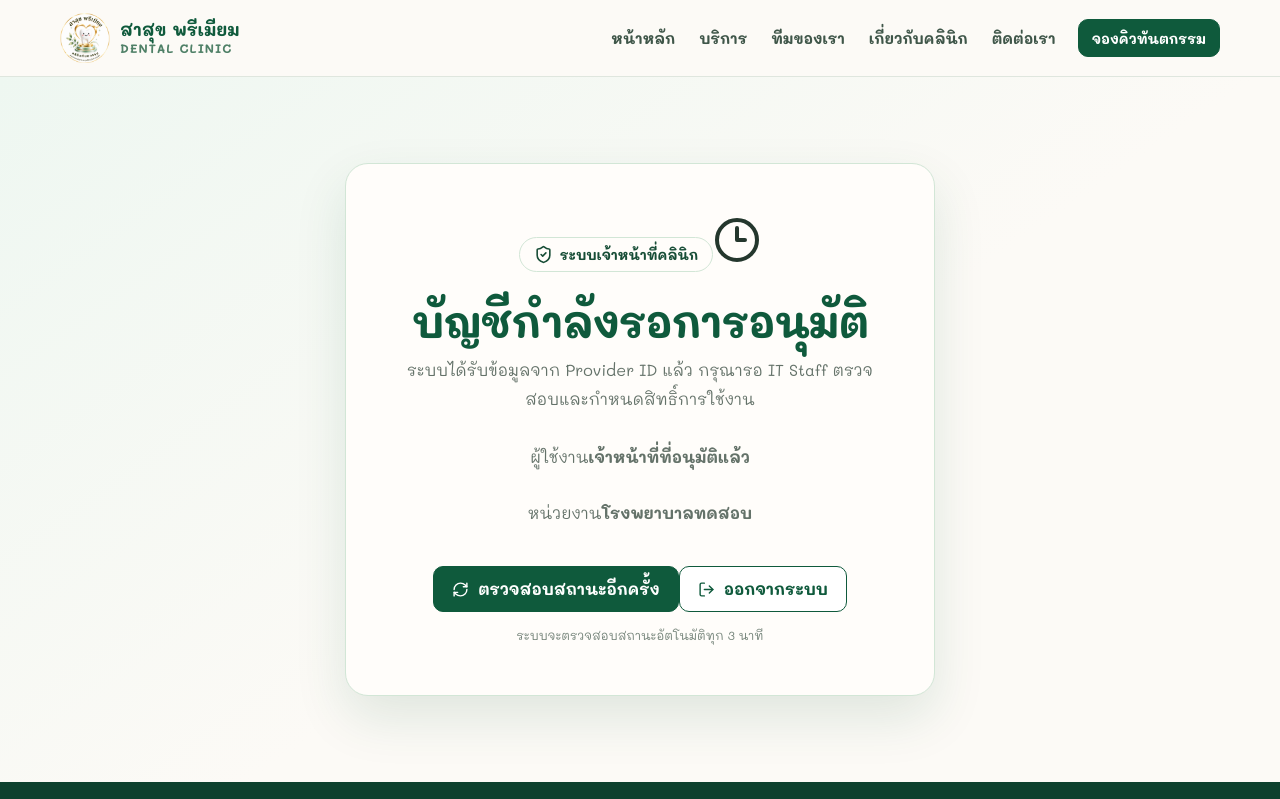
Test: ProviderID staff authentication UI › uses the server-approved role immediately when a pending account is approved
Click the button "ตรวจสอบสถานะอีกครั้ง".
click(556, 589)  # box x1=433 y1=566 x2=679 y2=612
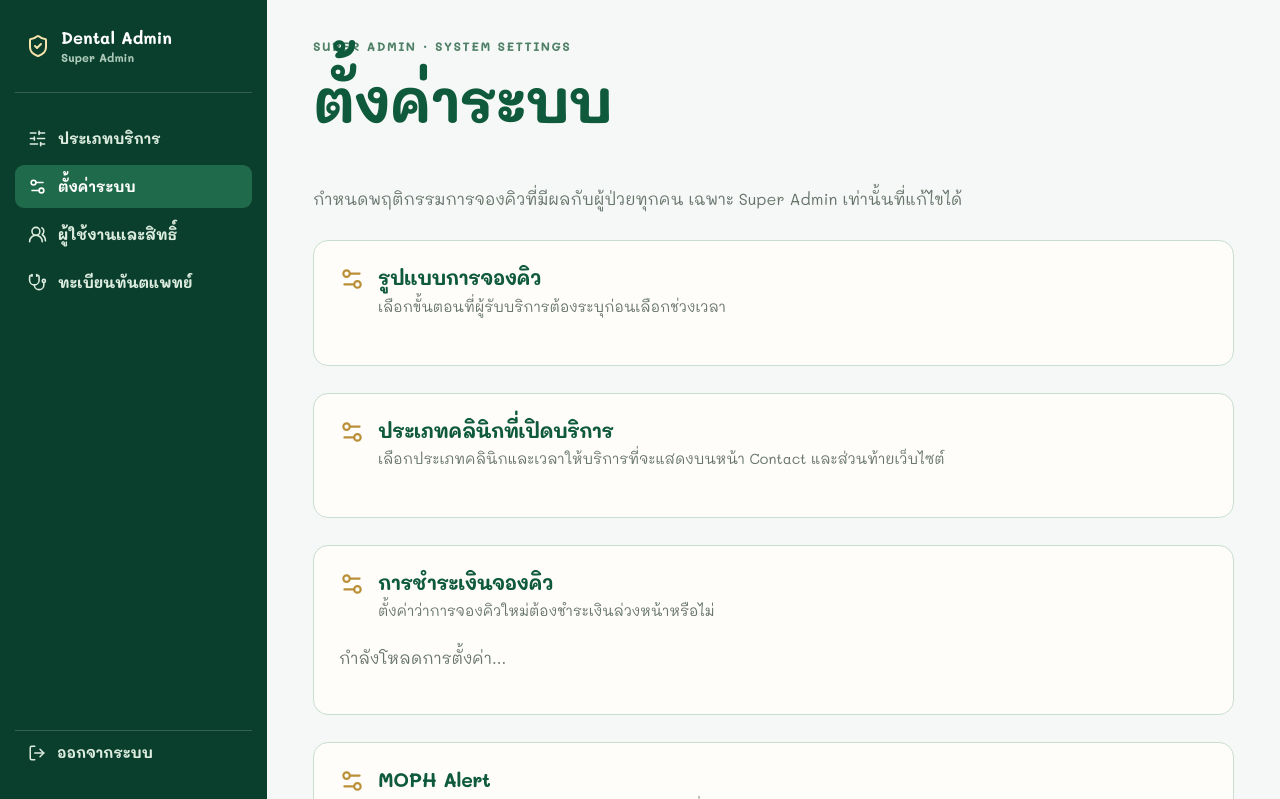
Now the heading "ตั้งค่าระบบ" is shown, box x1=313 y1=61 x2=611 y2=138
Now the link "ผู้ใช้งานและสิทธิ์" is shown, box x1=28 y1=225 x2=178 y2=244
